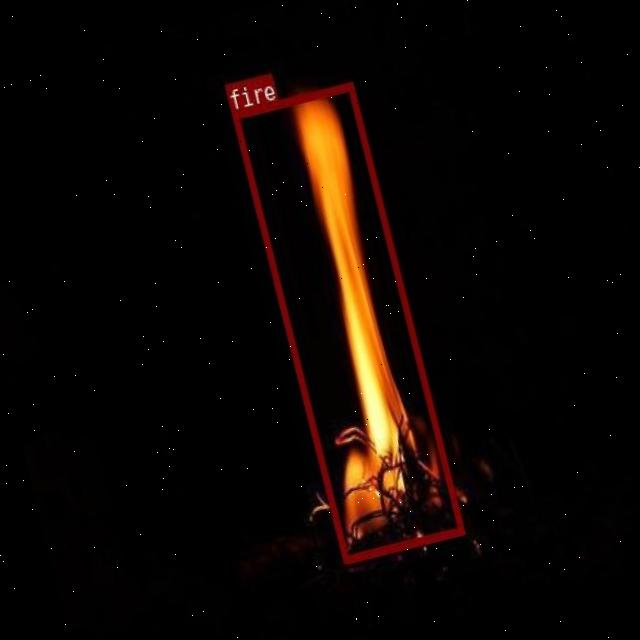fire: (230, 80, 462, 562)
